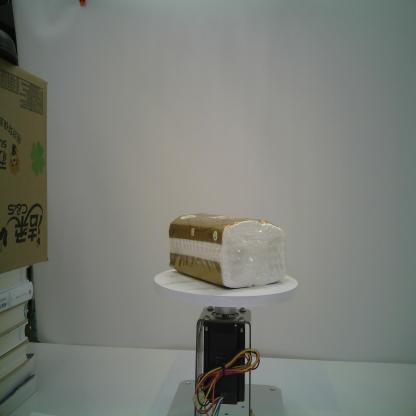Tissue: (168, 212, 287, 290)
